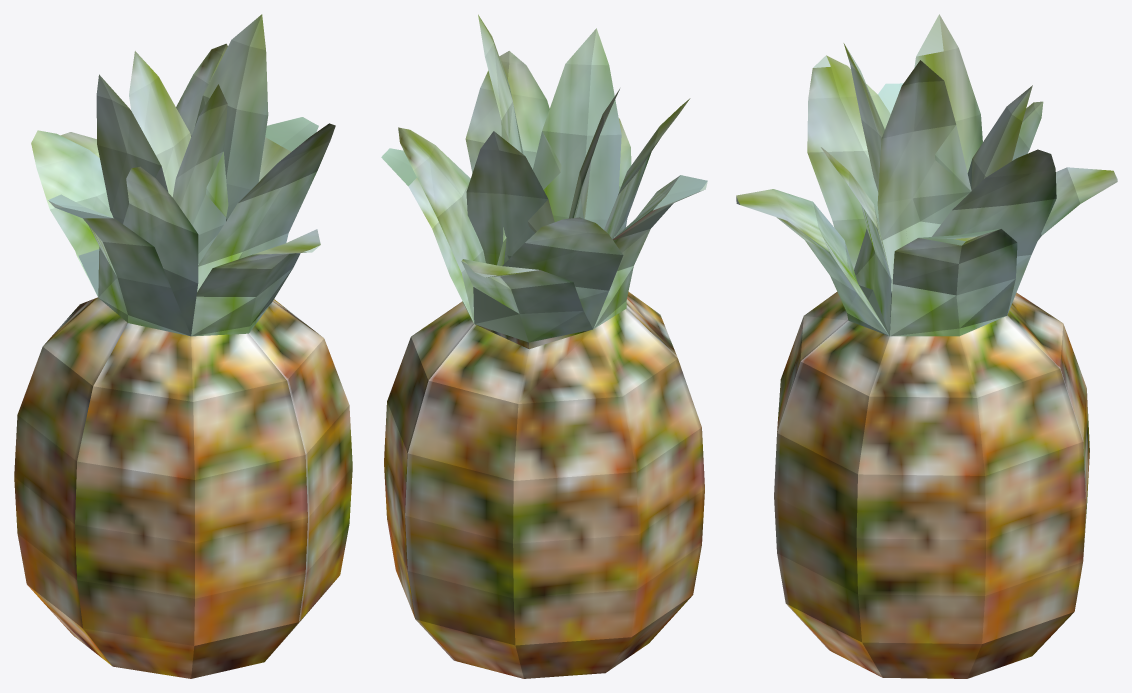
Rendered from PINEAPPLE HAT.fbx.
The picture shows the model from 3 angles, left to right: view 1: azimuth 30°, elevation 25°; view 2: azimuth 150°, elevation 25°; view 3: azimuth 270°, elevation 25°; orthographic projection. The views are drawn at different scales.
Parts seen in each view (by area): view 1: PINEAPPLE_HAT; view 2: PINEAPPLE_HAT; view 3: PINEAPPLE_HAT.
Boxes of the visible parts, <box> form: PINEAPPLE_HAT: <box>14,14,352,678</box>; PINEAPPLE_HAT: <box>381,14,707,678</box>; PINEAPPLE_HAT: <box>736,14,1117,678</box>.
Bounding box in the file's own units: 13.88 × 28.07 × 15.53.
